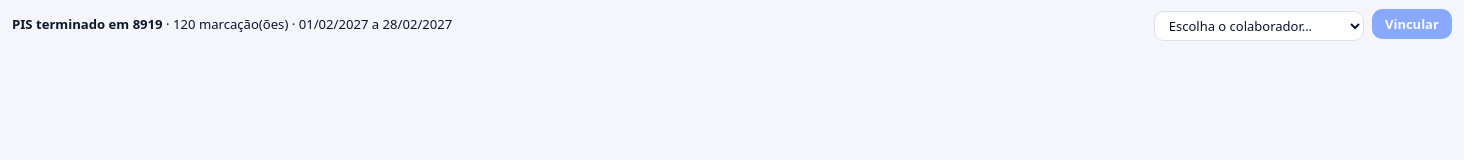
Scenario: Pendentes › vincula o identificador ao colaborador escolhido
Expected: the text "PIS terminado em 8919" is shown, [12,15,163,33]
Expected: the text "120 marcação(ões)" is shown, [12,15,452,34]
Step 1. Select "Bia" in the dropdown named "Colaborador do PIS terminado em 8919" → (1259, 26), box [1154,11,1364,41]
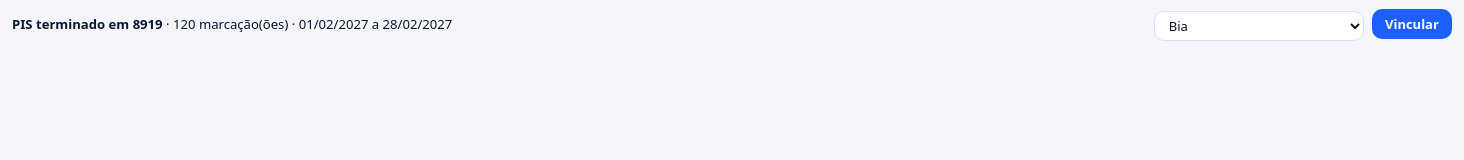
Step 2. Click the button with aria-label "Vincular PIS terminado em 8919" → click(1412, 24), box [1372,9,1452,39]
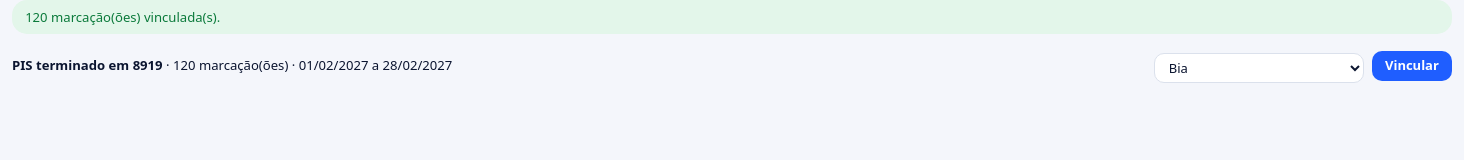
Expected: the text "120 marcação(ões) vinculada(s)." is shown, [12,0,1452,34]
